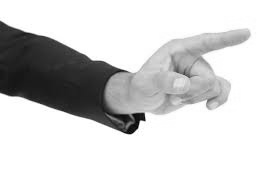pointing_gesture: (129, 28, 253, 115)
